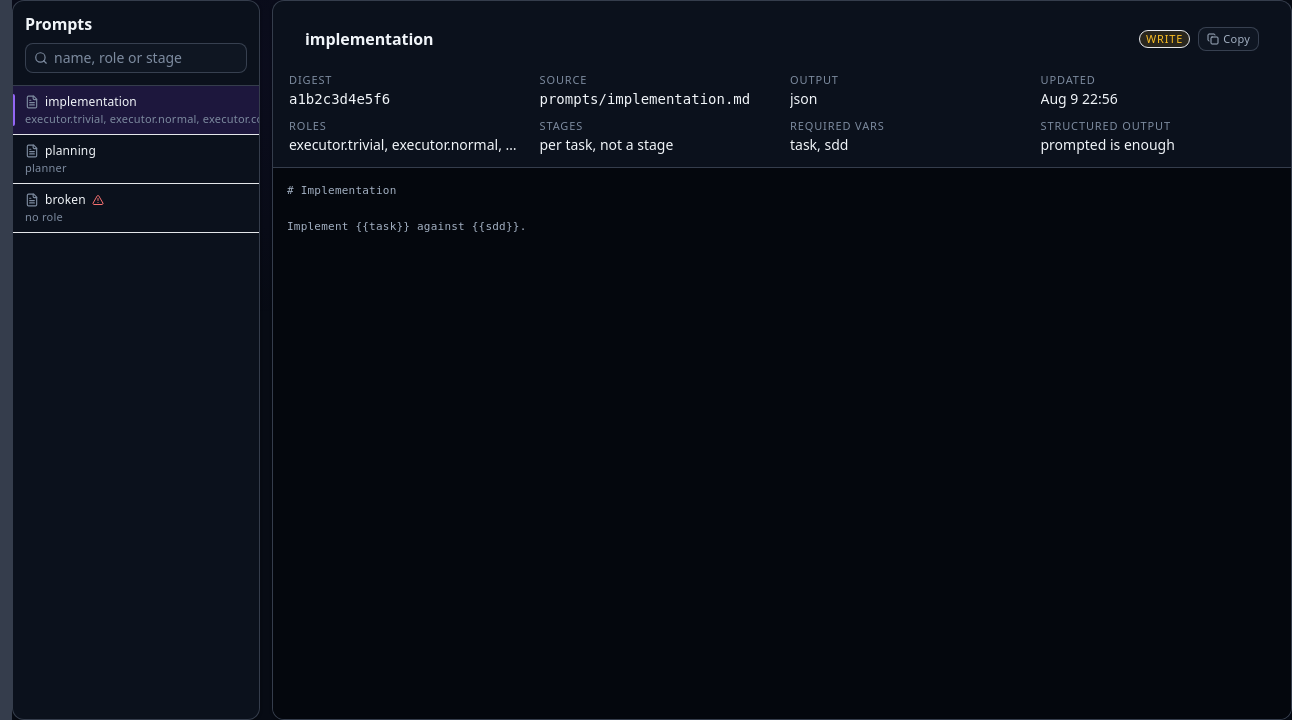
Scenario: the prompt viewer › searches by role as well as by name
The image size is (1292, 720).
Expected: the text "# Implementation Implement {{task}} against {{sdd}}." is shown, [287, 184, 526, 233]
Type "planner" into the field named "Search prompts" at (146, 58), box [54, 48, 238, 68]
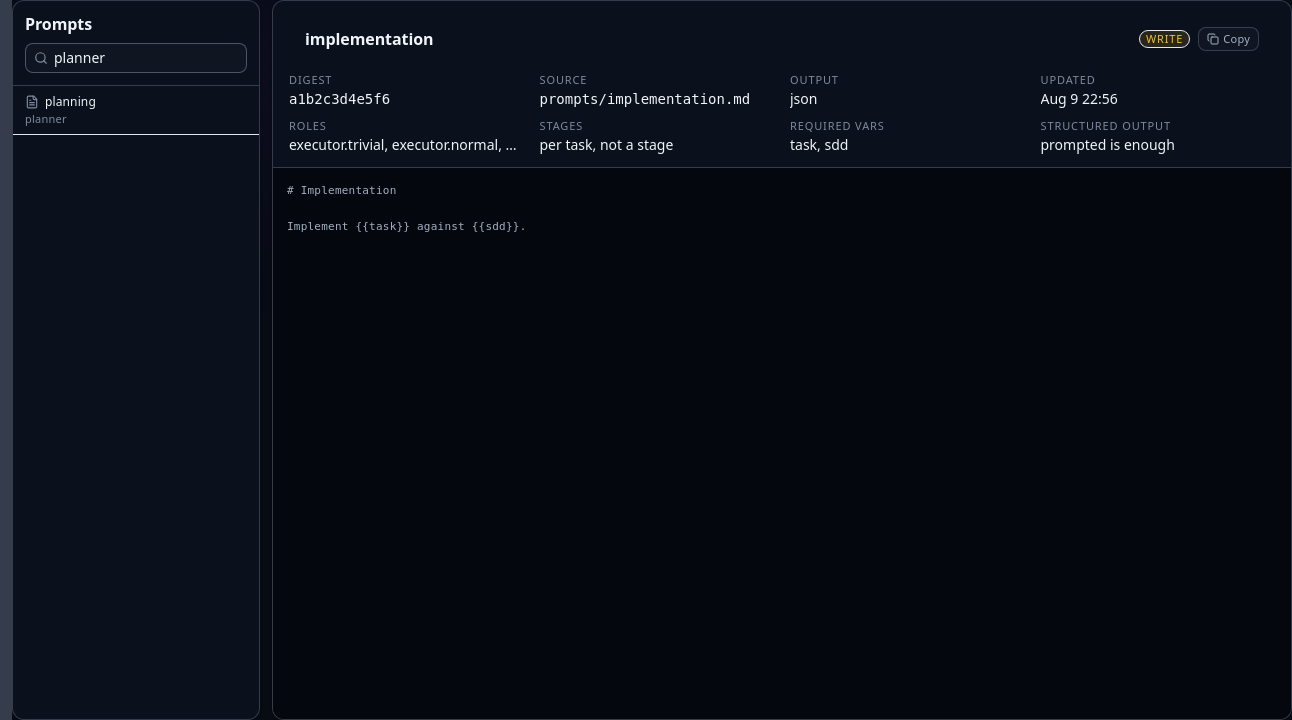
Expected: the button "planning planner" is shown, [13, 86, 259, 135]
Result: the button "broken" is gone
